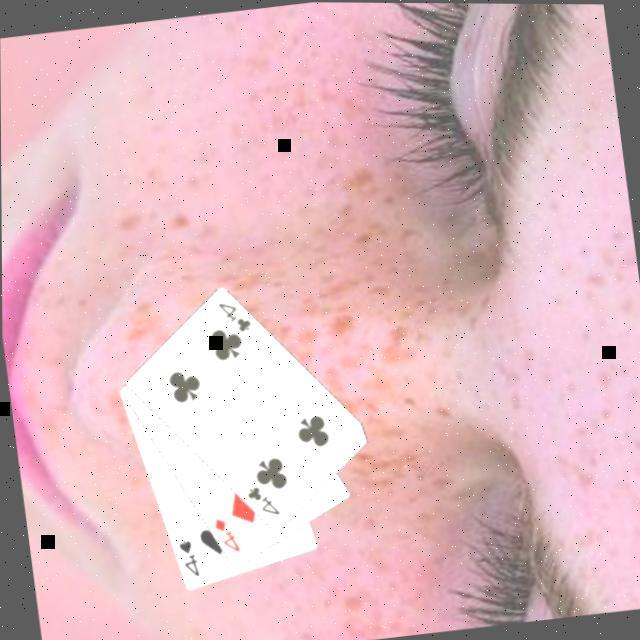4C: (244, 480, 284, 522), (216, 296, 256, 338)
4D: (210, 513, 245, 558)
4S: (175, 534, 204, 581)
